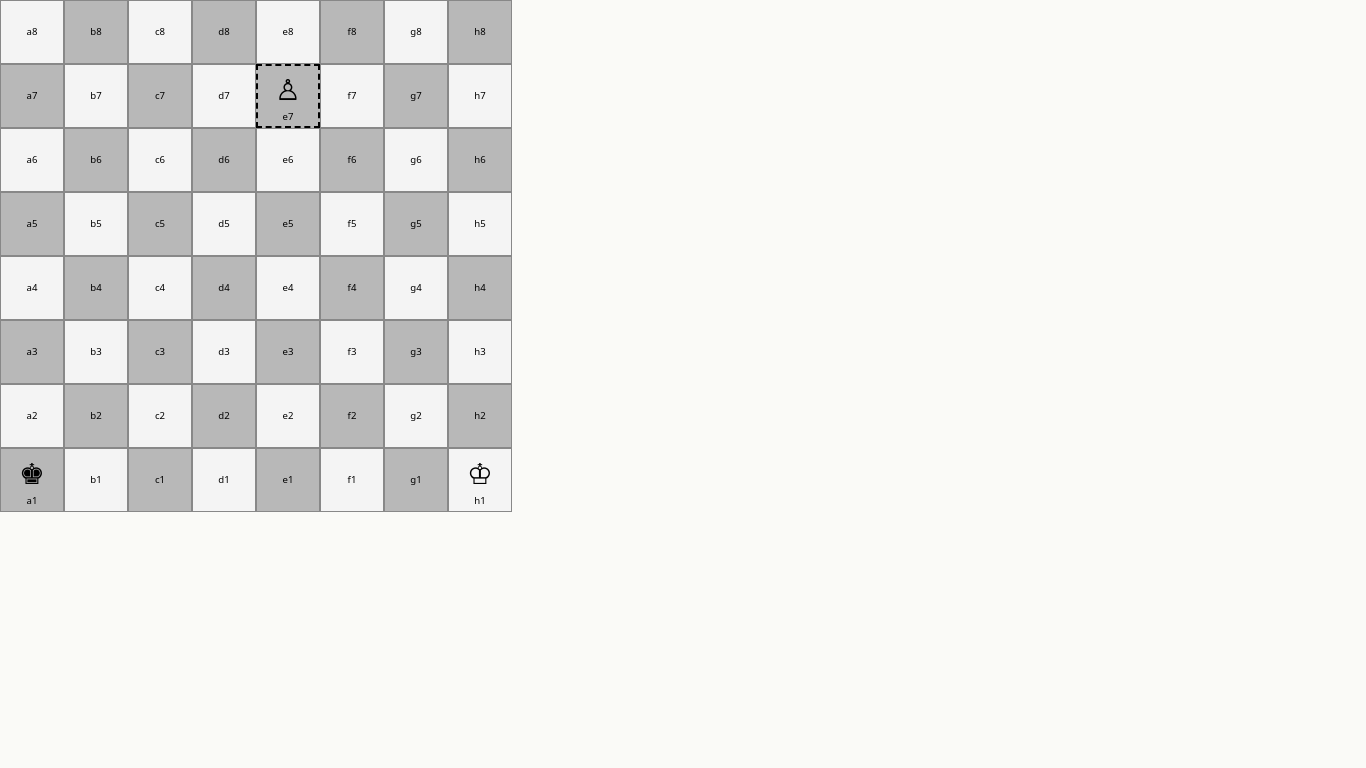
Test: promoção abre seletor e envia o sufixo escolhido
Click the button named "e7:" at {"x": 288, "y": 96}, box 256,64 -> 320,128
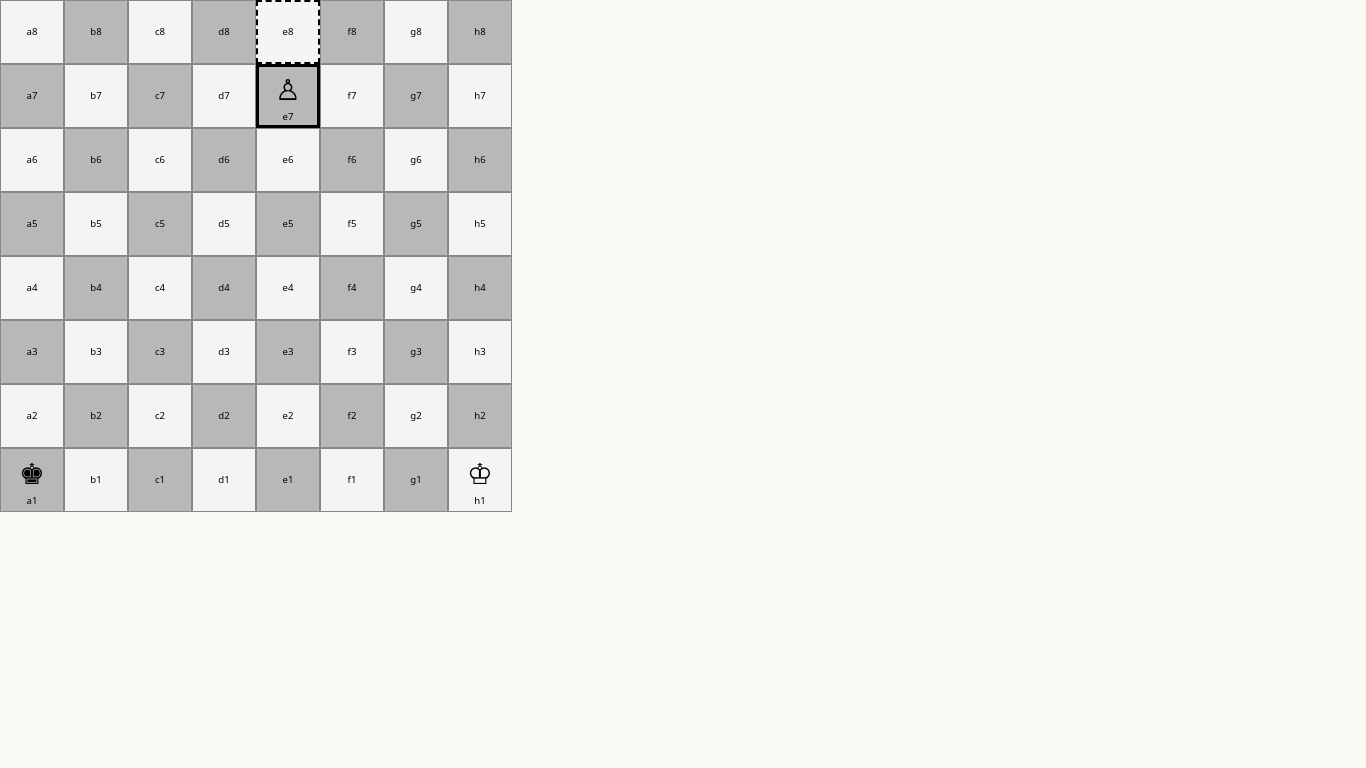
Click the button named "e8:" at {"x": 288, "y": 32}, box 256,0 -> 320,64
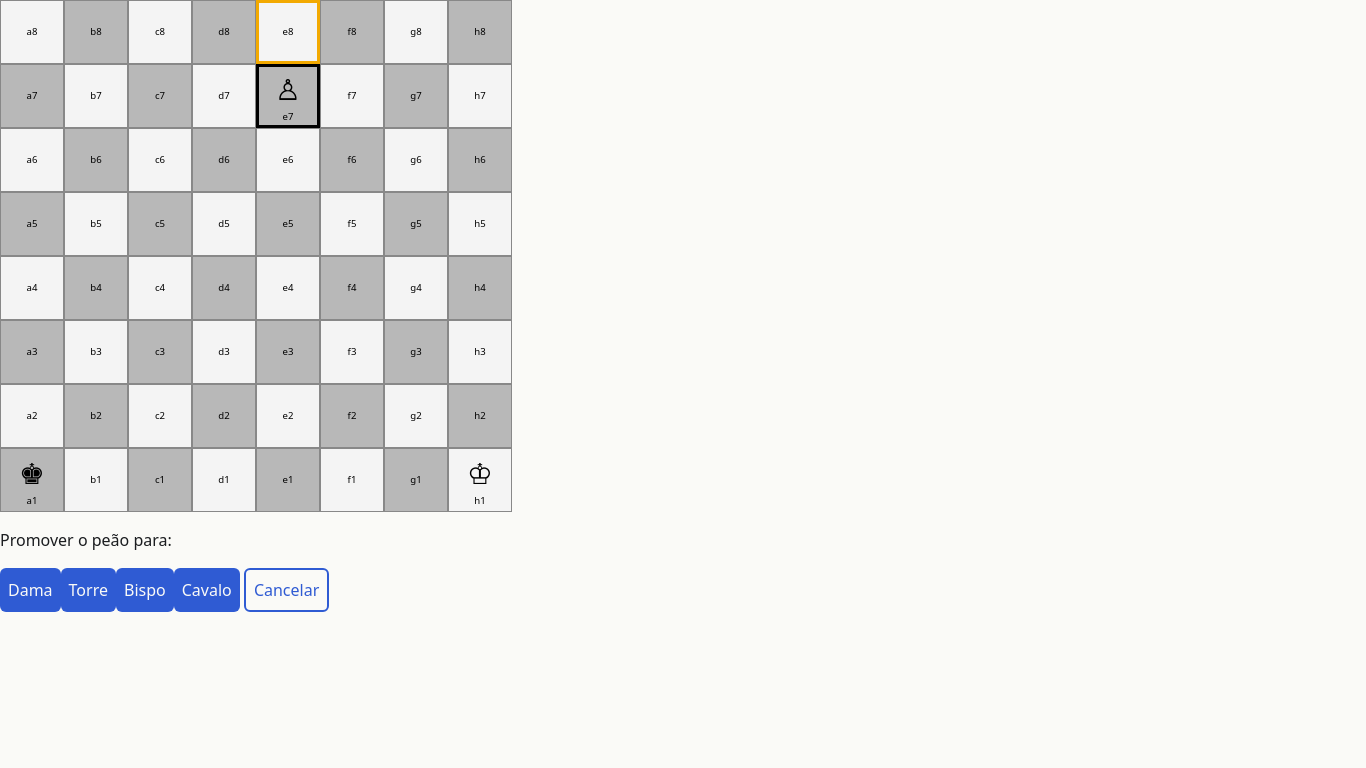
Result: the dialog is shown at 0,529 -> 329,612
Click the button "Cavalo" at {"x": 207, "y": 590}, box 174,568 -> 240,612
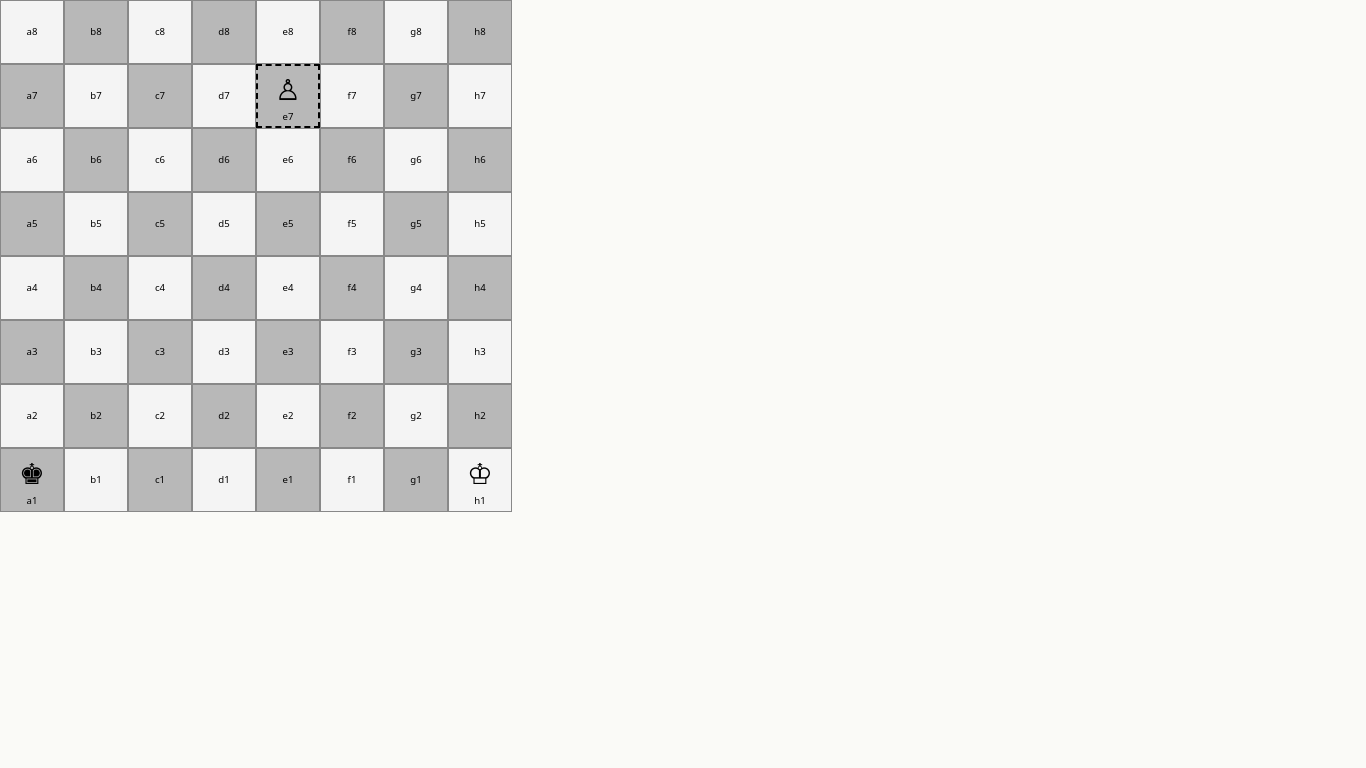
Result: the dialog is gone
